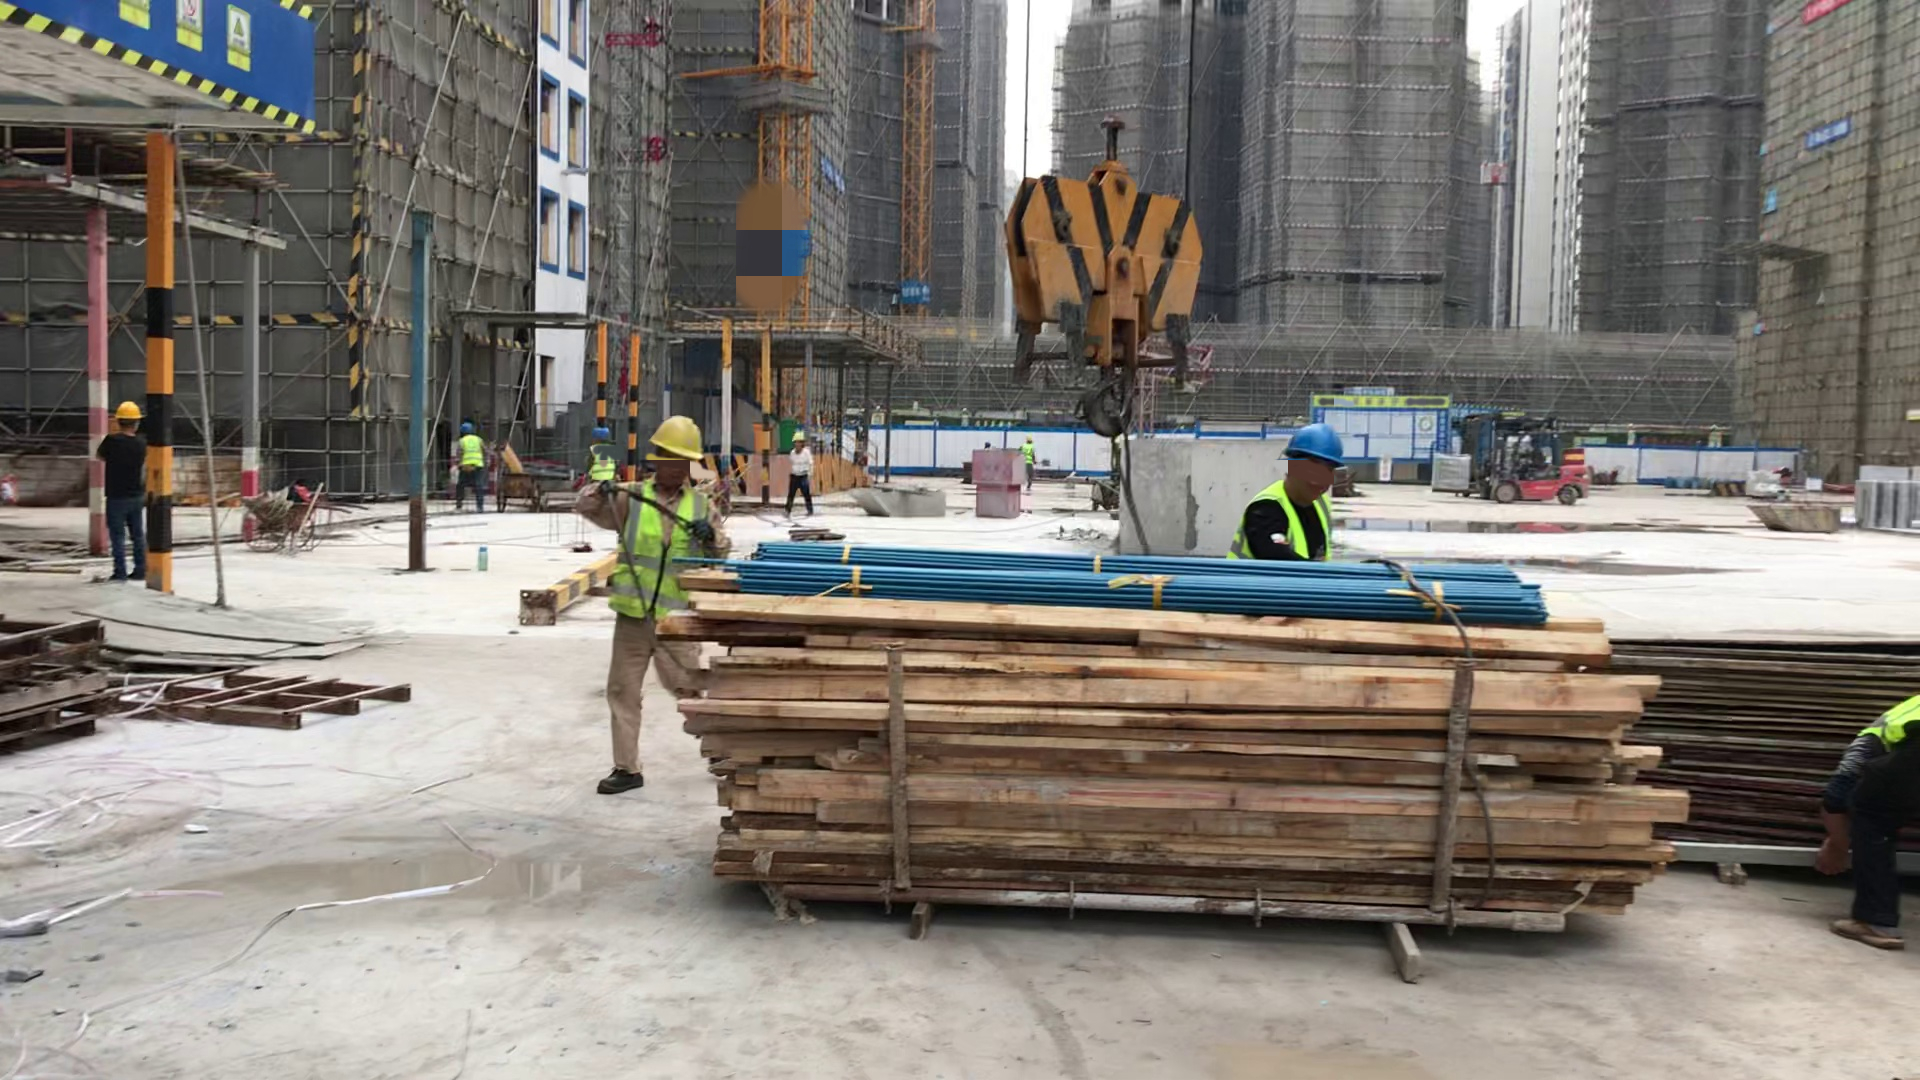board: (1613, 626, 1920, 848)
brick: (1424, 455, 1468, 488)
handcart: (242, 471, 348, 557)
helmet: (638, 406, 716, 461), (1271, 423, 1349, 478), (112, 393, 141, 418), (791, 424, 810, 448), (453, 417, 475, 434), (1020, 429, 1034, 446)
hook: (984, 83, 1186, 379)
hopper: (855, 472, 960, 524), (1750, 492, 1841, 543)
person: (612, 398, 717, 804), (1227, 417, 1367, 559), (103, 392, 150, 592), (446, 409, 490, 513), (780, 422, 817, 514), (1023, 434, 1037, 490)
vest: (629, 475, 701, 628), (1257, 480, 1346, 572), (453, 433, 480, 465)
wood: (662, 591, 1664, 921)
